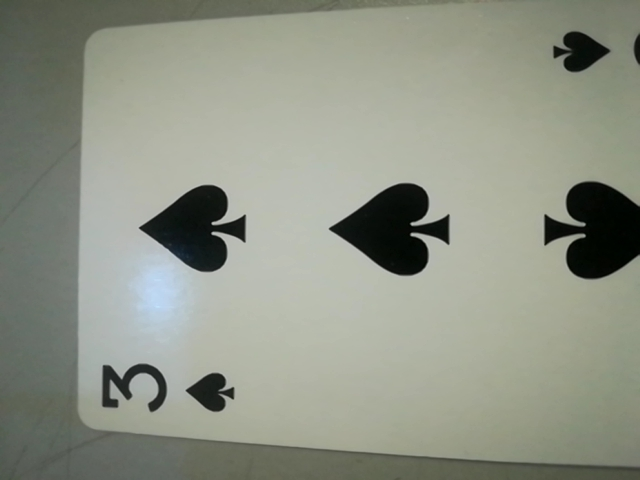ht 3: (85, 348, 254, 433)
